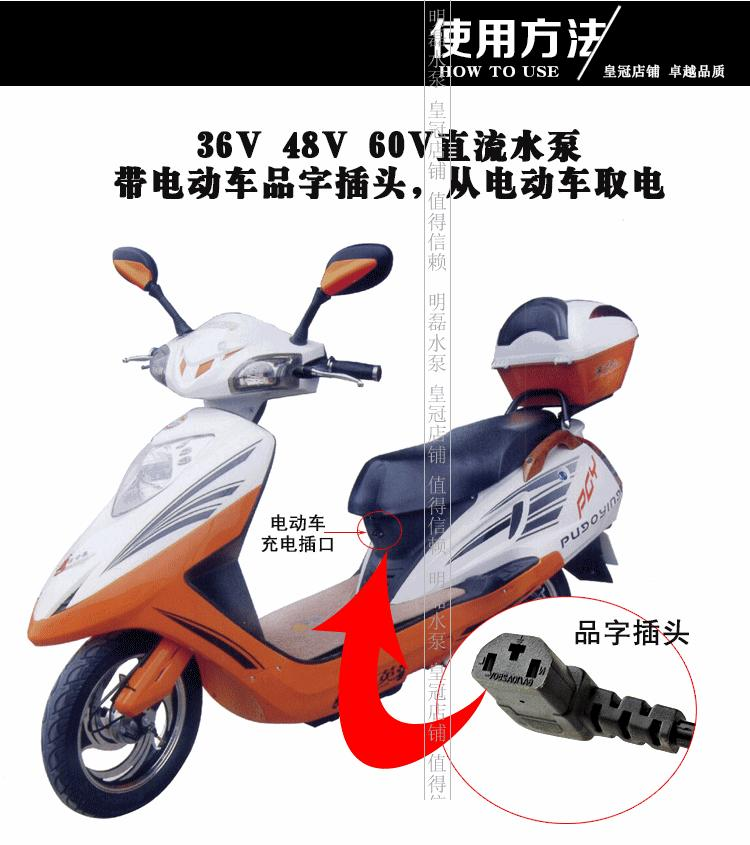电动车: (19, 234, 711, 818)
